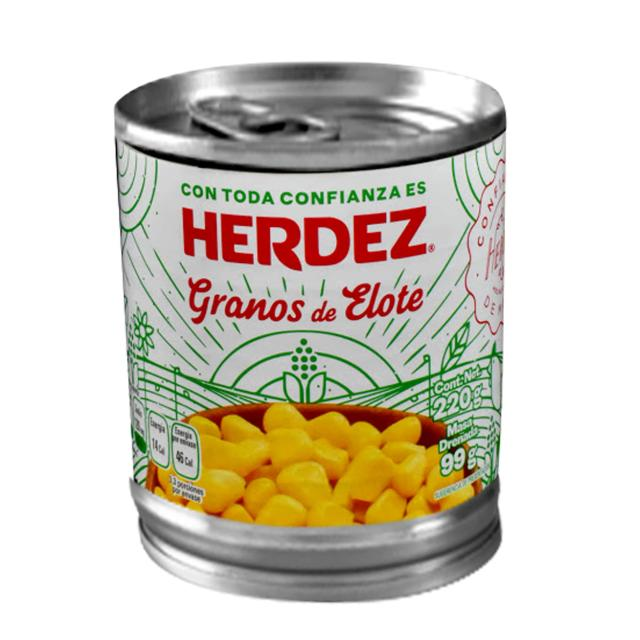Lata: (100, 59, 521, 610)
